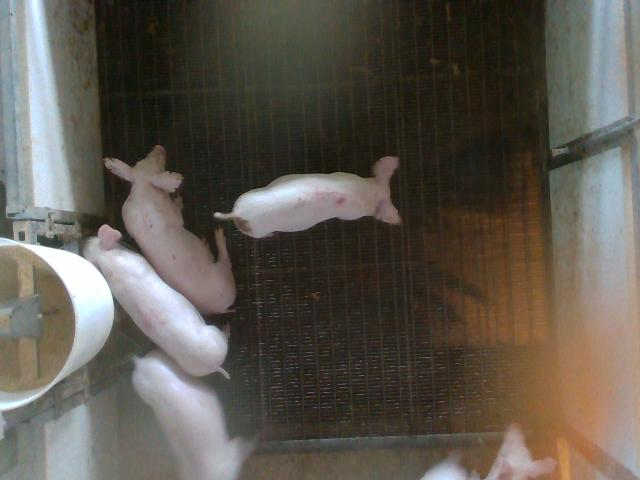pig-4: (85, 225, 228, 376)
pig-5: (214, 156, 401, 237)
